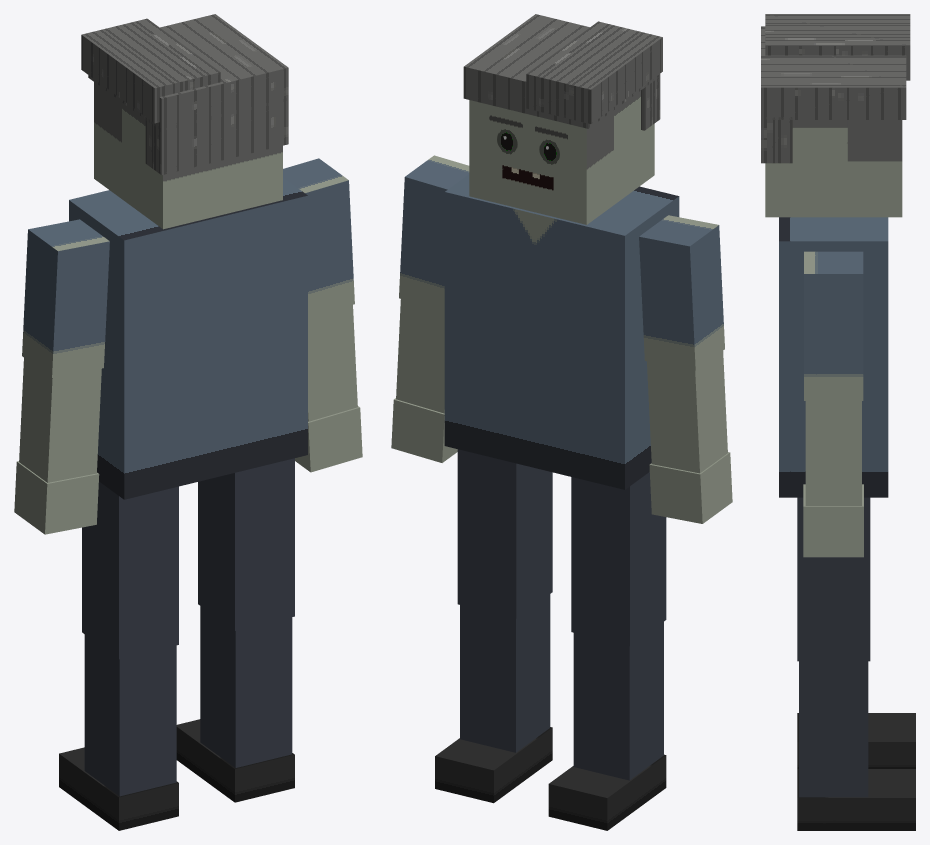
The model's file is hair_sidePart.glb.
The picture shows the model from 3 angles, left to right: view 1: azimuth 30°, elevation 25°; view 2: azimuth 150°, elevation 25°; view 3: azimuth 270°, elevation 25°; orthographic projection. The views are drawn at different scales.
Visible parts, largest first — view 1: block_torso, block_thigh.L, block_thigh.R, block_shin.L, block_shin.R, block_head, block_upper_arm.L, block_hair-cap, block_forearm.L, block_hair-sweep, block_upper_arm.R, block_hair-back (+5 smaller); view 2: block_torso, block_head, block_thigh.L, block_thigh.R, block_shin.L, block_shin.R, block_upper_arm.L, block_hair-sweep, block_forearm.L, block_upper_arm.R, block_hair-cap, block_foot.L (+5 smaller); view 3: block_torso, block_head, block_hair-cap, block_shin.R, block_upper_arm.R, block_thigh.R, block_hair-sweep, block_forearm.R, block_foot.R, block_hand.R, block_foot.L, block_hair-back.
Boxes of the visible parts, x1,y1,x2,y2 form: block_torso: [69, 177, 307, 499]; block_thigh.L: [82, 481, 178, 659]; block_thigh.R: [198, 458, 294, 630]; block_shin.L: [84, 634, 176, 796]; block_shin.R: [200, 606, 292, 767]; block_head: [94, 82, 282, 229]; block_upper_arm.L: [22, 219, 109, 377]; block_hair-cap: [88, 14, 288, 130]; block_forearm.L: [19, 358, 101, 482]; block_hair-sweep: [81, 18, 220, 123]; block_upper_arm.R: [283, 158, 354, 317]; block_hair-back: [145, 98, 288, 175]; block_torso: [444, 174, 679, 489]; block_head: [469, 90, 654, 224]; block_thigh.L: [571, 472, 666, 646]; block_thigh.R: [457, 449, 552, 618]; block_shin.L: [573, 622, 663, 780]; block_shin.R: [460, 594, 550, 752]; block_upper_arm.L: [639, 215, 724, 370]; block_hair-sweep: [526, 21, 662, 123]; block_forearm.L: [647, 351, 727, 473]; block_upper_arm.R: [399, 155, 469, 311]; block_hair-cap: [463, 14, 660, 128]; block_foot.L: [548, 754, 666, 830]; block_torso: [779, 217, 888, 497]; block_head: [765, 120, 902, 217]; block_hair-cap: [761, 26, 906, 119]; block_shin.R: [799, 661, 868, 797]; block_upper_arm.R: [804, 251, 863, 400]; block_thigh.R: [797, 497, 870, 661]; block_hair-sweep: [765, 14, 910, 80]; block_forearm.R: [805, 401, 861, 505]; block_foot.R: [797, 769, 915, 830]; block_hand.R: [803, 484, 863, 557]; block_foot.L: [797, 713, 915, 768]; block_hair-back: [761, 117, 792, 163].
Size of the model in its own units: 0.7948 by 1.79 by 0.339.
Materials: 1 (1 with a texture image).
